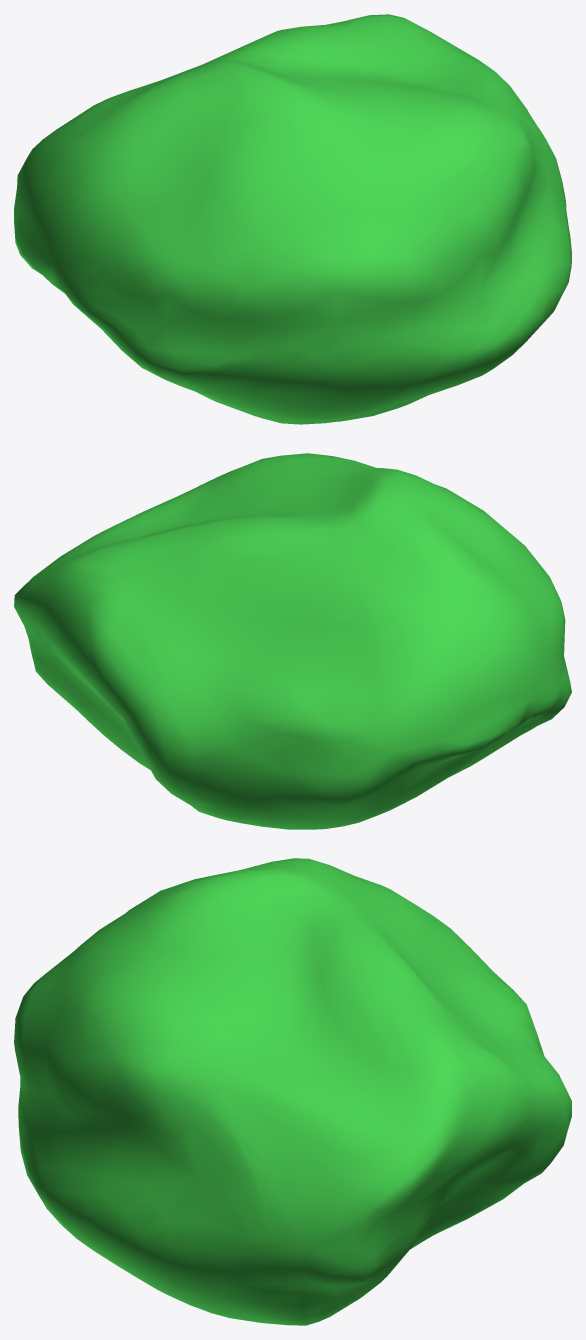
Rendered from copa_2.fbx.
3 renders of one model, top to bottom at view 1: azimuth 30°, elevation 25°; view 2: azimuth 150°, elevation 25°; view 3: azimuth 270°, elevation 25°, orthographic. The views are drawn at different scales.
Visible parts, largest first — view 1: copa.001; view 2: copa.001; view 3: copa.001.
Boxes of the visible parts, bbox=[...] form: copa.001: bbox=[14, 14, 571, 424]; copa.001: bbox=[14, 453, 571, 829]; copa.001: bbox=[14, 858, 571, 1325].
Size of the model in its own units: 10.06 by 9.18 by 6.64.
